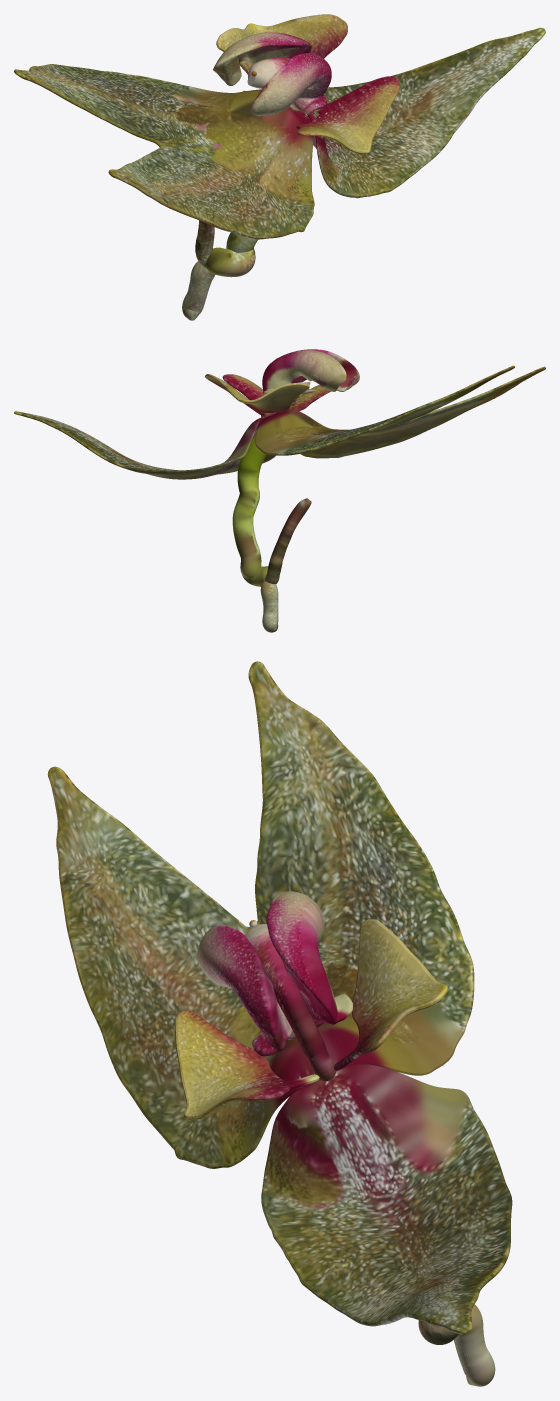
Rendered from lepanthes-sp-nov-v12d.glb.
The picture shows the model from 3 angles, top to bottom: view 1: azimuth 30°, elevation 25°; view 2: azimuth 150°, elevation 25°; view 3: azimuth 270°, elevation 25°; orthographic projection. The views are drawn at different scales.
Visible parts, largest first — view 1: lateral_sepals, dorsal_sepal, labellum, petal_near, petal_far, ovary_pedicel, rachis, column, bud; view 2: lateral_sepals, labellum, ovary_pedicel, dorsal_sepal, petal_far, bud, petal_near, rachis; view 3: lateral_sepals, dorsal_sepal, labellum, petal_near, petal_far, column, rachis.
Part boxes in pixels (x1=…): lateral_sepals: x1=14, y1=64, x2=314, y2=239; dorsal_sepal: x1=243, y1=27, x2=545, y2=198; labellum: x1=213, y1=32, x2=331, y2=116; petal_near: x1=296, y1=76, x2=400, y2=154; petal_far: x1=216, y1=14, x2=347, y2=74; ovary_pedicel: x1=206, y1=232, x2=258, y2=277; rachis: x1=182, y1=261, x2=214, y2=320; column: x1=247, y1=57, x2=290, y2=88; bud: x1=195, y1=220, x2=214, y2=267; lateral_sepals: x1=255, y1=365, x2=545, y2=458; labellum: x1=262, y1=349, x2=359, y2=405; ovary_pedicel: x1=232, y1=433, x2=279, y2=586; dorsal_sepal: x1=14, y1=411, x2=275, y2=479; petal_far: x1=205, y1=374, x2=309, y2=415; bud: x1=265, y1=498, x2=311, y2=583; petal_near: x1=222, y1=374, x2=330, y2=412; rachis: x1=260, y1=581, x2=278, y2=632; lateral_sepals: x1=47, y1=661, x2=474, y2=1168; dorsal_sepal: x1=261, y1=1064, x2=512, y2=1334; labellum: x1=197, y1=891, x2=353, y2=1056; petal_near: x1=174, y1=1010, x2=319, y2=1119; petal_far: x1=334, y1=919, x2=448, y2=1070; column: x1=245, y1=920, x2=336, y2=1081; rachis: x1=454, y1=1304, x2=495, y2=1386.
Bounding box in the file's own units: 9.38 × 5.43 × 4.21.
